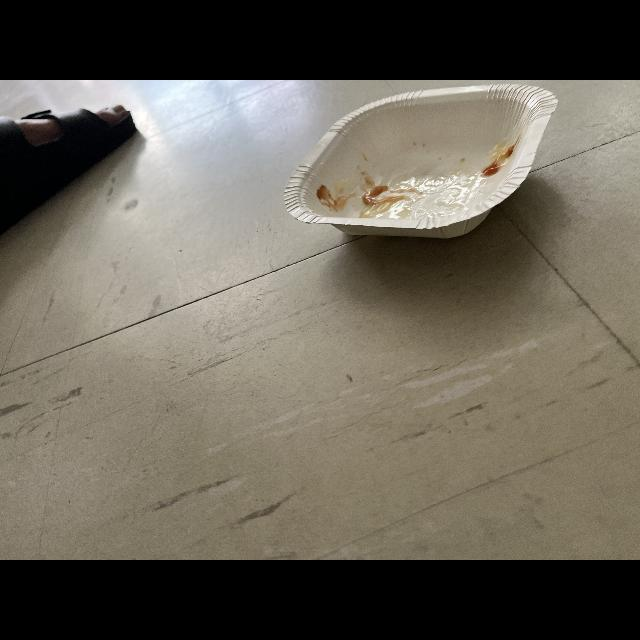cardboard_bowl: (281, 82, 561, 250)
